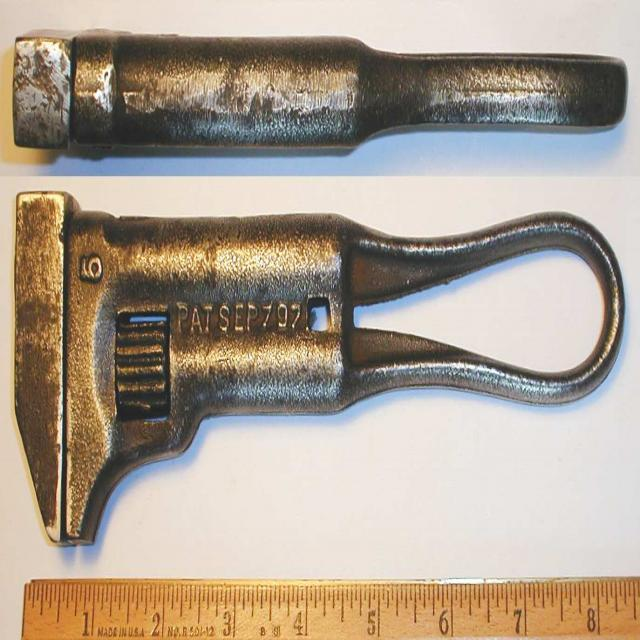wrench: (0, 195, 632, 550)
